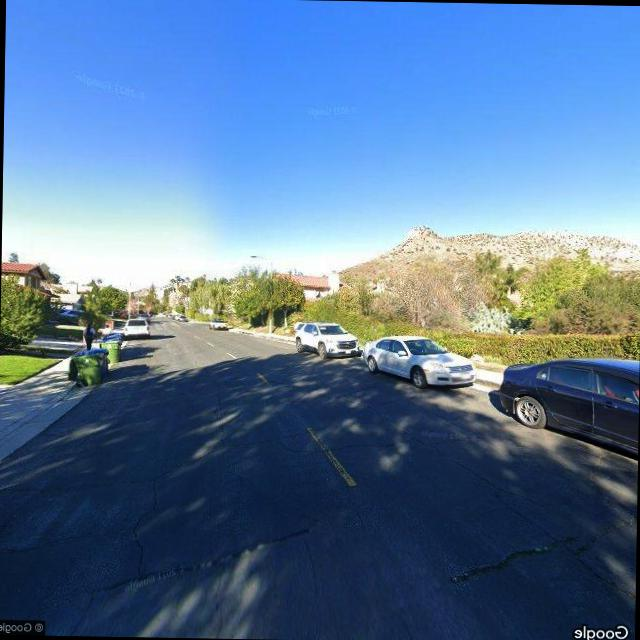crack: (0, 420, 432, 505), (301, 368, 536, 510), (123, 372, 230, 574), (95, 514, 332, 597), (446, 512, 636, 582)
